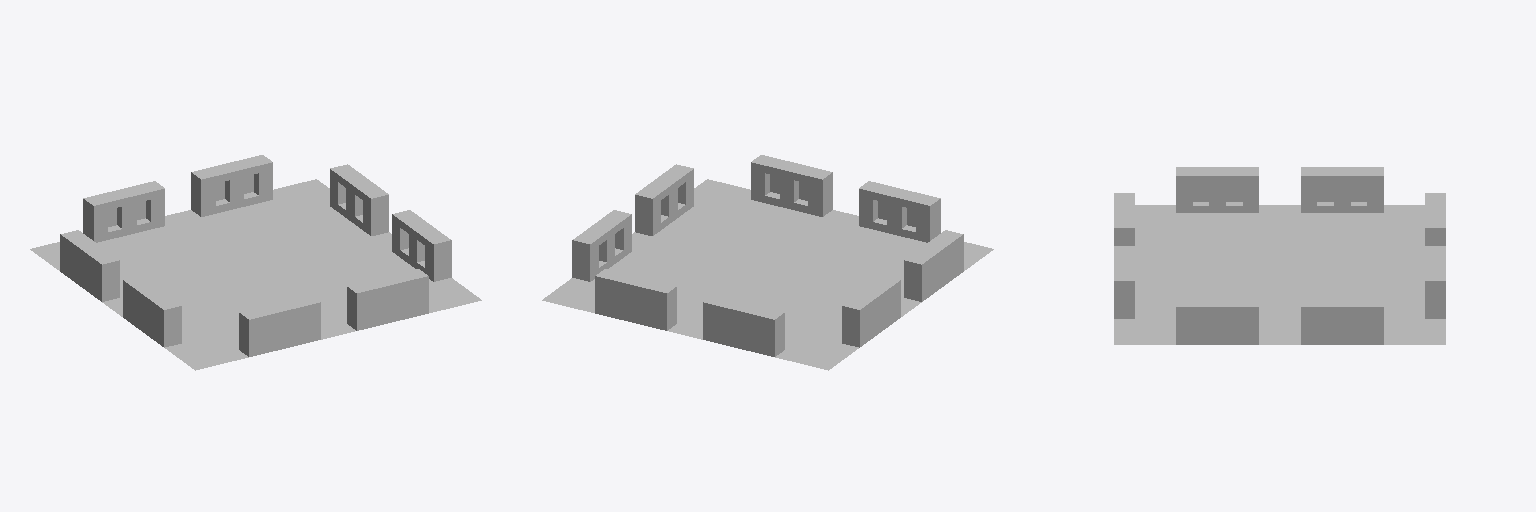
File: CrossCorridor.obj
3 views of the same model, side by side, from view 1: azimuth 30°, elevation 25°; view 2: azimuth 150°, elevation 25°; view 3: azimuth 270°, elevation 25° (orthographic).
Parts seen in each view (by area): view 1: Plane_Plane.002, 4Wide_2Torches_proxy.005_Plane, 4Wide_2Torches_proxy.003_Plane, 4Wide_2Torches_proxy.001_Plane, 4Wide_2Torches_proxy.007_Plane, 4Wide_2Torches_proxy_Plane, 4Wide_2Torches_proxy.002_Plane, 4Wide_2Torches_proxy.006_Plane, 4Wide_2Torches_proxy.004_Plane; view 2: Plane_Plane.002, 4Wide_2Torches_proxy.003_Plane, 4Wide_2Torches_proxy.007_Plane, 4Wide_2Torches_proxy.005_Plane, 4Wide_2Torches_proxy.001_Plane, 4Wide_2Torches_proxy.004_Plane, 4Wide_2Torches_proxy.006_Plane, 4Wide_2Torches_proxy.002_Plane, 4Wide_2Torches_proxy_Plane; view 3: Plane_Plane.002, 4Wide_2Torches_proxy.006_Plane, 4Wide_2Torches_proxy.004_Plane, 4Wide_2Torches_proxy.002_Plane, 4Wide_2Torches_proxy_Plane, 4Wide_2Torches_proxy.005_Plane, 4Wide_2Torches_proxy.003_Plane, 4Wide_2Torches_proxy.007_Plane, 4Wide_2Torches_proxy.001_Plane.
Boxes of the visible parts, box(x1,y1,x2,y2) form: Plane_Plane.002: box(30, 179, 481, 370); 4Wide_2Torches_proxy.005_Plane: box(347, 269, 428, 330); 4Wide_2Torches_proxy.003_Plane: box(191, 155, 272, 216); 4Wide_2Torches_proxy.001_Plane: box(239, 295, 320, 356); 4Wide_2Torches_proxy.007_Plane: box(83, 181, 164, 242); 4Wide_2Torches_proxy_Plane: box(60, 230, 119, 301); 4Wide_2Torches_proxy.002_Plane: box(392, 210, 451, 281); 4Wide_2Torches_proxy.006_Plane: box(330, 164, 388, 235); 4Wide_2Torches_proxy.004_Plane: box(123, 276, 181, 347); Plane_Plane.002: box(542, 179, 993, 370); 4Wide_2Torches_proxy.003_Plane: box(595, 269, 676, 330); 4Wide_2Torches_proxy.007_Plane: box(703, 295, 784, 356); 4Wide_2Torches_proxy.005_Plane: box(751, 155, 832, 216); 4Wide_2Torches_proxy.001_Plane: box(859, 181, 940, 242); 4Wide_2Torches_proxy.004_Plane: box(904, 230, 963, 301); 4Wide_2Torches_proxy.006_Plane: box(572, 210, 631, 281); 4Wide_2Torches_proxy.002_Plane: box(635, 164, 693, 235); 4Wide_2Torches_proxy_Plane: box(842, 276, 900, 347); Plane_Plane.002: box(1114, 205, 1445, 344); 4Wide_2Torches_proxy.006_Plane: box(1301, 299, 1383, 344); 4Wide_2Torches_proxy.004_Plane: box(1176, 167, 1258, 212); 4Wide_2Torches_proxy.002_Plane: box(1176, 299, 1258, 344); 4Wide_2Torches_proxy_Plane: box(1301, 167, 1383, 212); 4Wide_2Torches_proxy.005_Plane: box(1114, 246, 1134, 318); 4Wide_2Torches_proxy.003_Plane: box(1425, 246, 1445, 318); 4Wide_2Torches_proxy.007_Plane: box(1425, 193, 1445, 245); 4Wide_2Torches_proxy.001_Plane: box(1114, 193, 1134, 245).
Size of the model in its own units: 16 by 2 by 16.